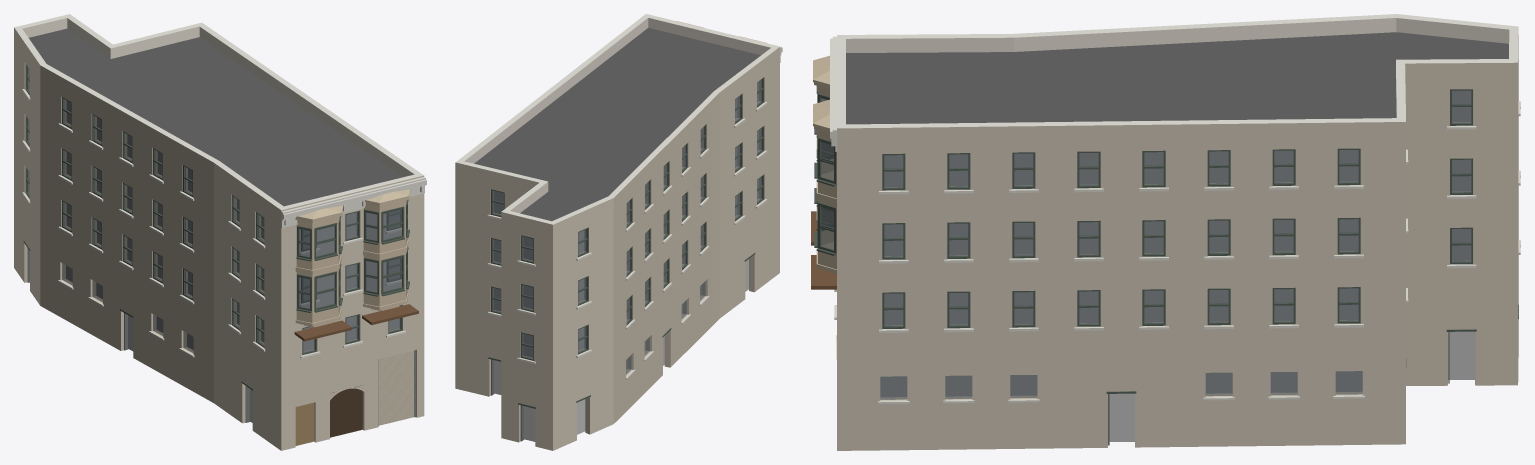
The model's file is exterior.glb.
3 views of the same model, side by side, from view 1: azimuth 30°, elevation 25°; view 2: azimuth 150°, elevation 25°; view 3: azimuth 270°, elevation 25° (orthographic). The views are drawn at different scales.
Visible parts, largest first — view 1: shell, roof, glazing, bay-glazing-hyb, shadow-proxy, storefront, bay-windows-hyb, frames, trim, hand-ornament; view 2: shell, roof, glazing, frames, shadow-proxy, trim, storefront; view 3: shell, roof, shadow-proxy, glazing, frames, trim, bay-windows-hyb, bay-glazing-hyb, hand-ornament.
Part boxes in pixels (x1=…): shell: x1=14, y1=14, x2=424, y2=450; roof: x1=29, y1=28, x2=402, y2=206; glazing: x1=27, y1=67, x2=400, y2=353; bay-glazing-hyb: x1=296, y1=199, x2=409, y2=312; shadow-proxy: x1=66, y1=101, x2=401, y2=422; storefront: x1=23, y1=241, x2=415, y2=445; bay-windows-hyb: x1=295, y1=189, x2=410, y2=327; frames: x1=25, y1=64, x2=402, y2=354; trim: x1=22, y1=89, x2=426, y2=358; hand-ornament: x1=294, y1=304, x2=418, y2=341; shell: x1=455, y1=14, x2=779, y2=450; roof: x1=474, y1=27, x2=760, y2=221; glazing: x1=493, y1=79, x2=761, y2=374; frames: x1=491, y1=77, x2=763, y2=360; shadow-proxy: x1=494, y1=82, x2=758, y2=441; trim: x1=487, y1=14, x2=782, y2=379; storefront: x1=488, y1=253, x2=755, y2=441; shell: x1=837, y1=14, x2=1518, y2=450; roof: x1=846, y1=32, x2=1508, y2=124; shadow-proxy: x1=880, y1=91, x2=1474, y2=441; glazing: x1=880, y1=90, x2=1471, y2=399; frames: x1=882, y1=89, x2=1472, y2=328; trim: x1=830, y1=36, x2=1520, y2=403; bay-windows-hyb: x1=813, y1=55, x2=836, y2=274; bay-glazing-hyb: x1=814, y1=86, x2=836, y2=255; hand-ornament: x1=811, y1=211, x2=836, y2=289.
Bounding box in the file's own units: 10.02 × 13.1 × 26.13.
